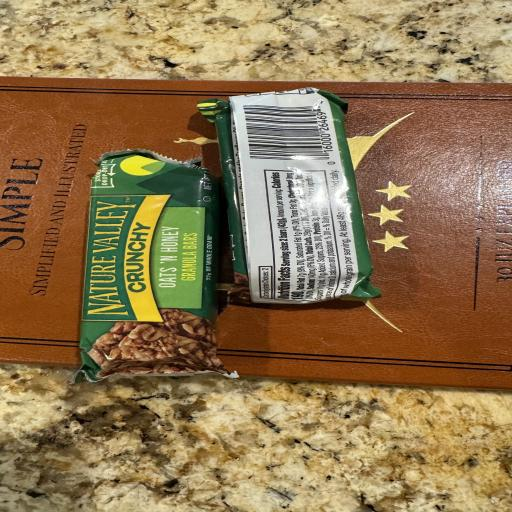granola: (198, 88, 380, 303), (76, 150, 227, 380)
